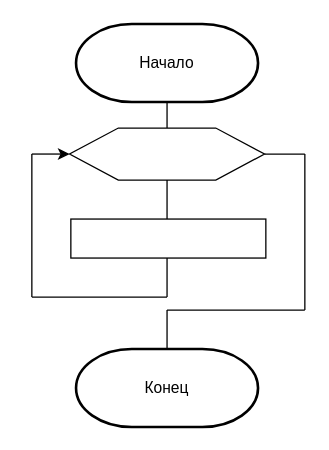
This 329x450 diagram has some shape labels left out. Each missing label, with the centre of its shape:
state[i]=state[i] ⊕key[i]: (168,238)
Цикл i от 0 до 16: (166,153)
